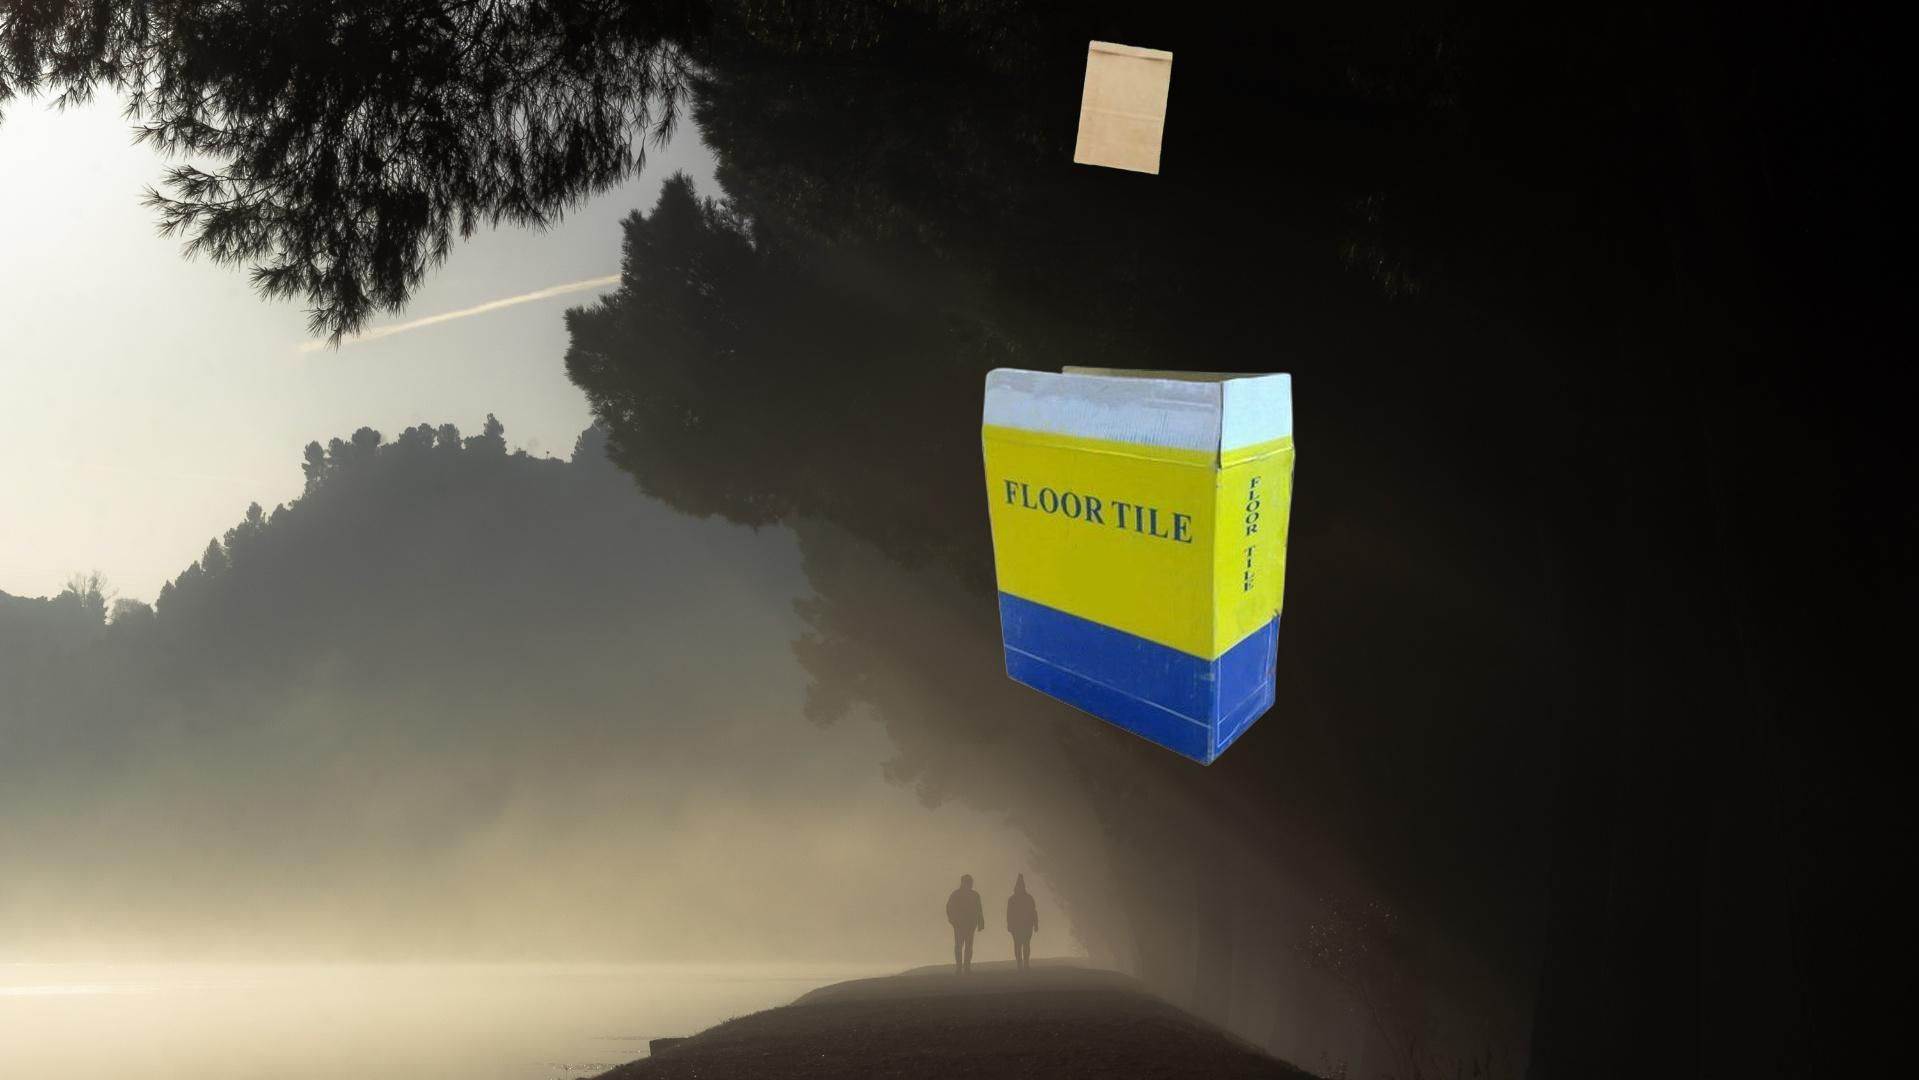paper-bag: (1070, 34, 1177, 177)
trashbox-cardboard: (977, 361, 1301, 771)
